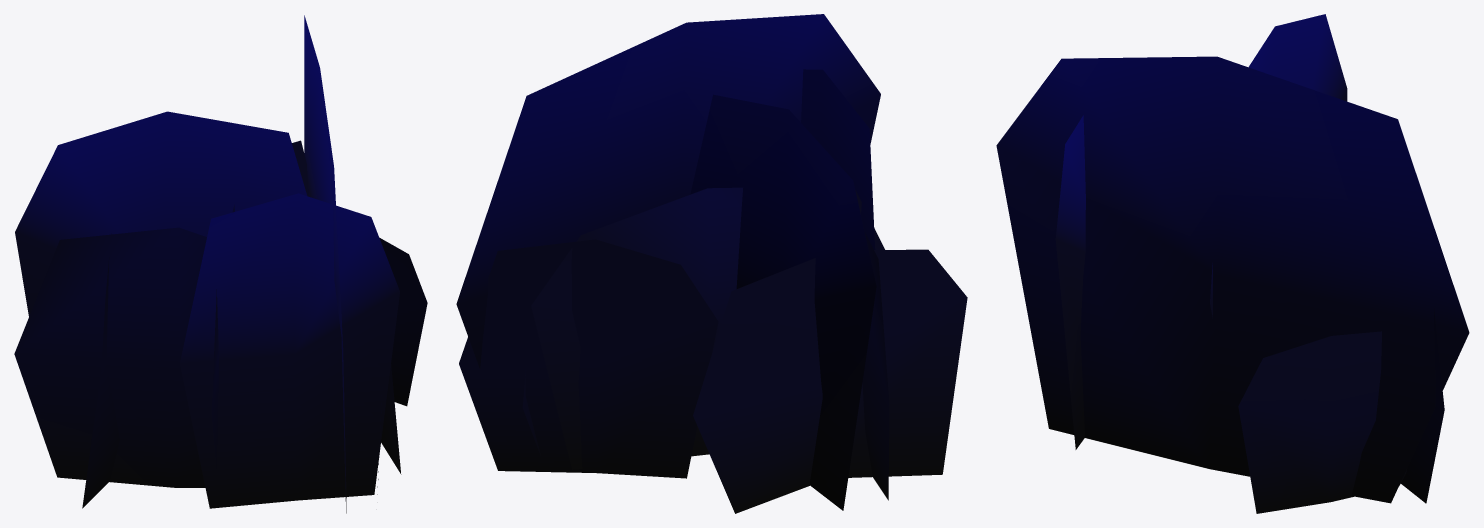
File: SM_Grass_M_Patch_M_03.fbx
3 renders of one model, left to right at view 1: azimuth 30°, elevation 25°; view 2: azimuth 150°, elevation 25°; view 3: azimuth 270°, elevation 25°, orthographic. The views are drawn at different scales.
Visible parts, largest first — view 1: SM_Grass_M_Patch_M_03; view 2: SM_Grass_M_Patch_M_03; view 3: SM_Grass_M_Patch_M_03.
Boxes of the visible parts, x1,y1,x2,y2 form: SM_Grass_M_Patch_M_03: (14, 15, 427, 513); SM_Grass_M_Patch_M_03: (456, 14, 967, 513); SM_Grass_M_Patch_M_03: (996, 14, 1469, 513).
Bounding box in the file's own units: 141 × 148 × 139.
